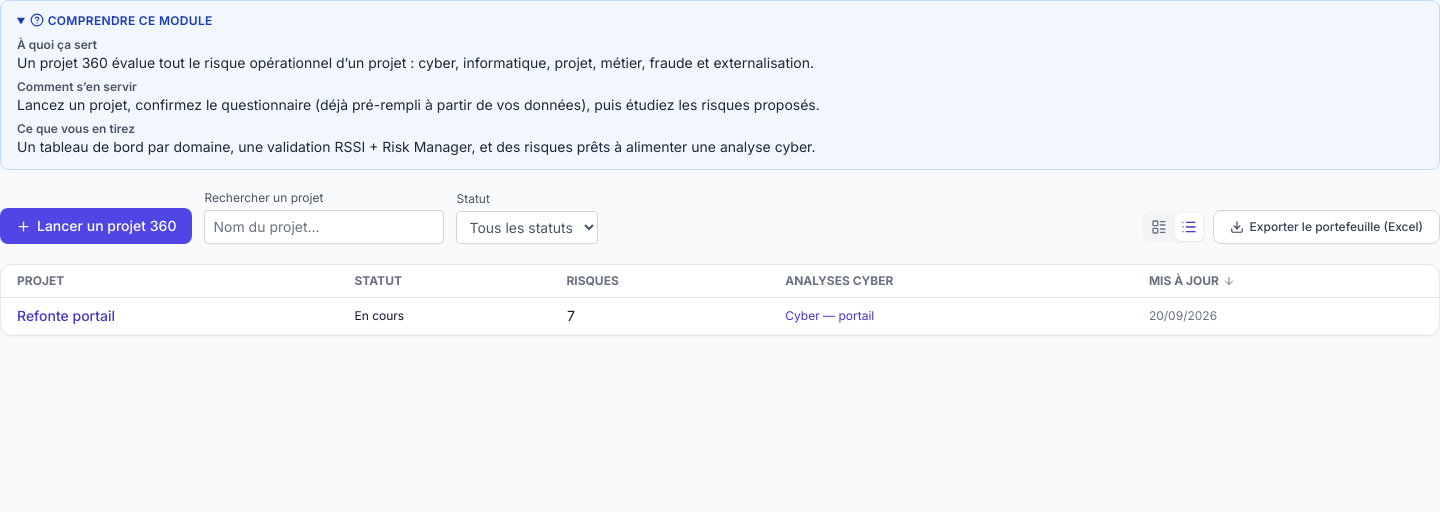
Test case: Bascule vue détaillée / liste simple › projets : liste simple par défaut ; « Vue détaillée » affiche des cartes (météo, mise en service, analyses)
The image size is (1440, 512).
Expected: the table is shown, 1,265 -> 1439,335
Click the button named "Vue détaillée".
click(1159, 227)  # box 1145,213 -> 1173,241
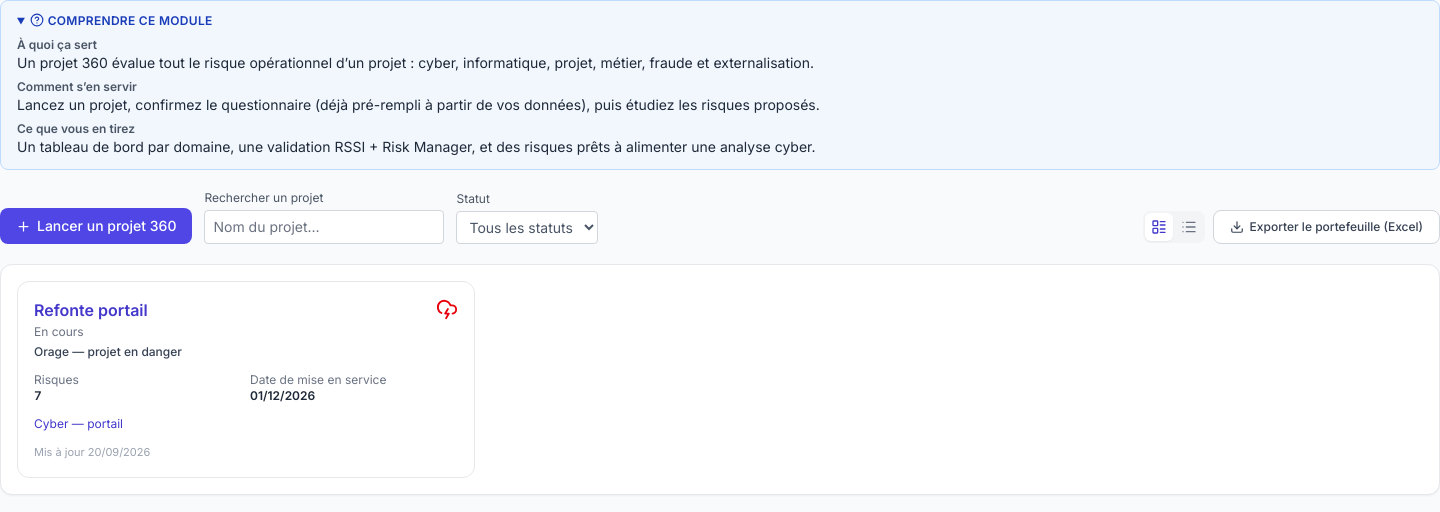
Expected: the table is gone
Expected: the text "Orage — projet en danger" is shown, 34,344 -> 182,359
Expected: the text "01/12/2026" is shown, 250,388 -> 315,403
